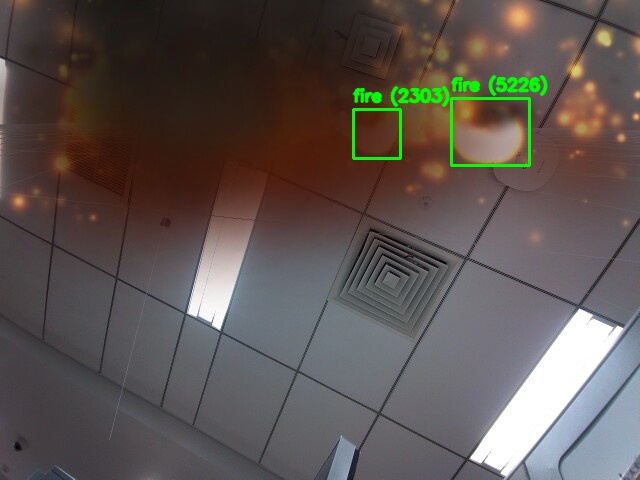fire: (451, 98, 529, 165), (353, 109, 400, 158)
